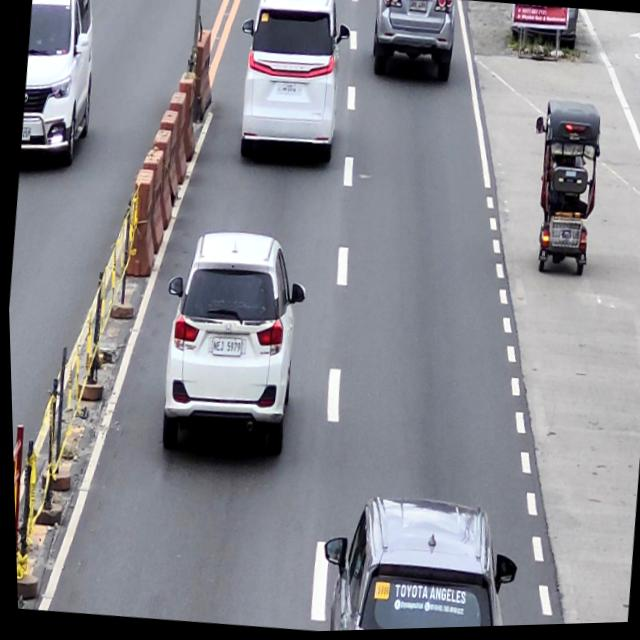Car: (146, 225, 314, 465), (311, 489, 519, 633), (227, 0, 357, 167), (367, 0, 460, 87)
E-bike: (519, 95, 606, 283)
License-Plate: (207, 335, 241, 360), (409, 0, 427, 16), (278, 81, 297, 96)
